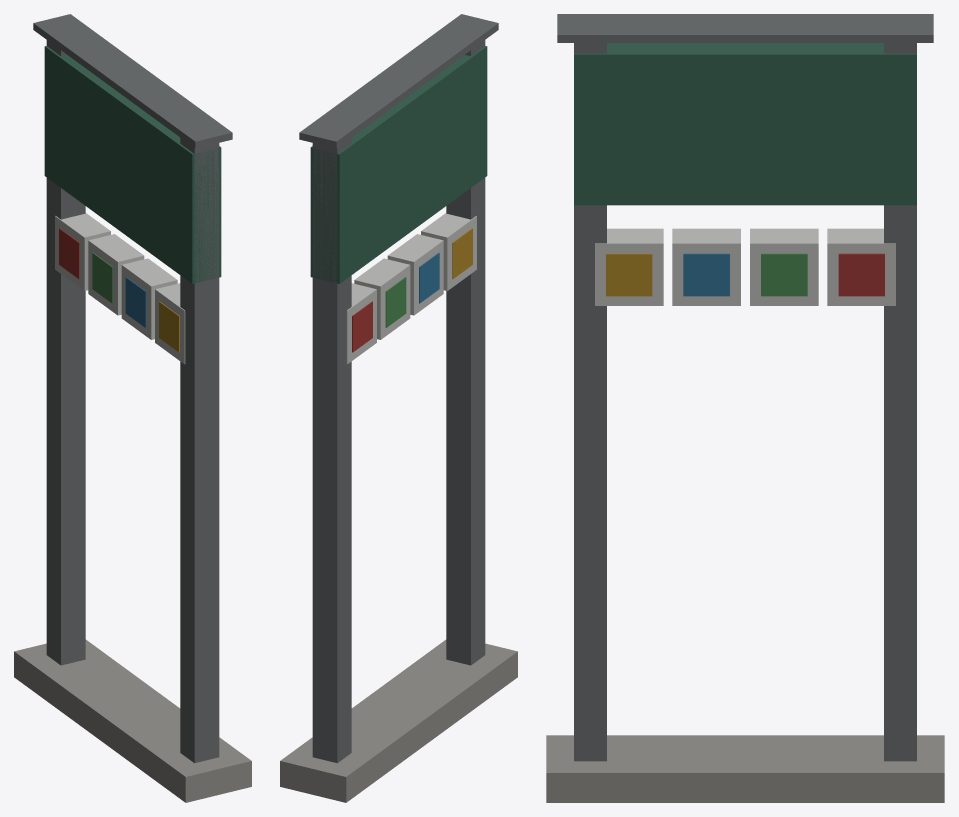
Rendered from SM_Prop_services_pylon_0.glb.
The picture shows the model from 3 angles, left to right: view 1: azimuth 30°, elevation 25°; view 2: azimuth 150°, elevation 25°; view 3: azimuth 270°, elevation 25°; orthographic projection. The views are drawn at different scales.
Visible parts, largest first — view 1: SM_Prop_services_pylon_0; view 2: SM_Prop_services_pylon_0; view 3: SM_Prop_services_pylon_0.
Part boxes in pixels (left/top/right/bottom): SM_Prop_services_pylon_0: left=14, top=14, right=251, bottom=802; SM_Prop_services_pylon_0: left=280, top=14, right=517, bottom=802; SM_Prop_services_pylon_0: left=546, top=14, right=944, bottom=802.
Size of the model in its own units: 0.8 by 7.57 by 3.6.
